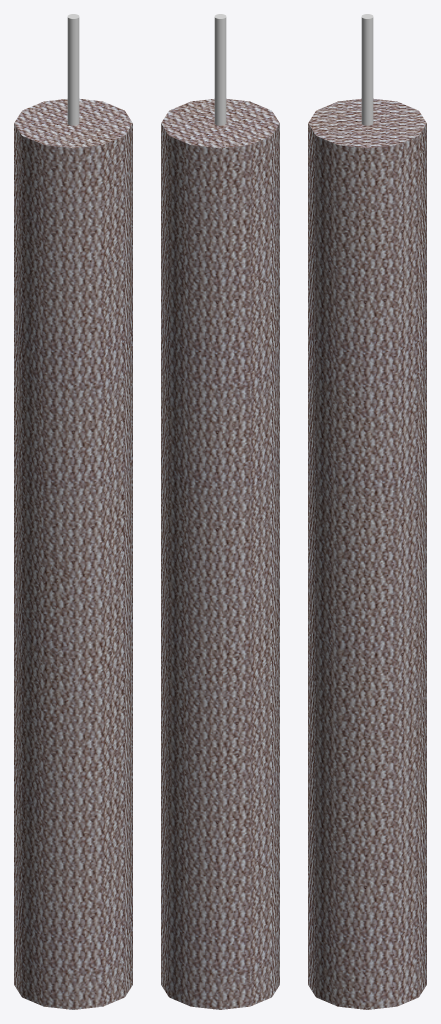
3 renders of one model, left to right at view 1: azimuth 30°, elevation 25°; view 2: azimuth 210°, elevation 25°; view 3: azimuth 270°, elevation 25°, orthographic.
Visible parts, largest first — view 1: Detail1, con1out; view 2: Detail1, con1out; view 3: Detail1, con1out.
Part boxes in pixels (box(x1,y1,x2,y2)): Detail1: box(14, 98, 132, 1009); con1out: box(67, 14, 79, 125); Detail1: box(161, 98, 279, 1009); con1out: box(214, 14, 226, 125); Detail1: box(308, 98, 426, 1009); con1out: box(361, 14, 373, 125).
Size of the model in its own units: 0.1 by 0.8991 by 0.1.
Materials: 1 (1 with a texture image).
